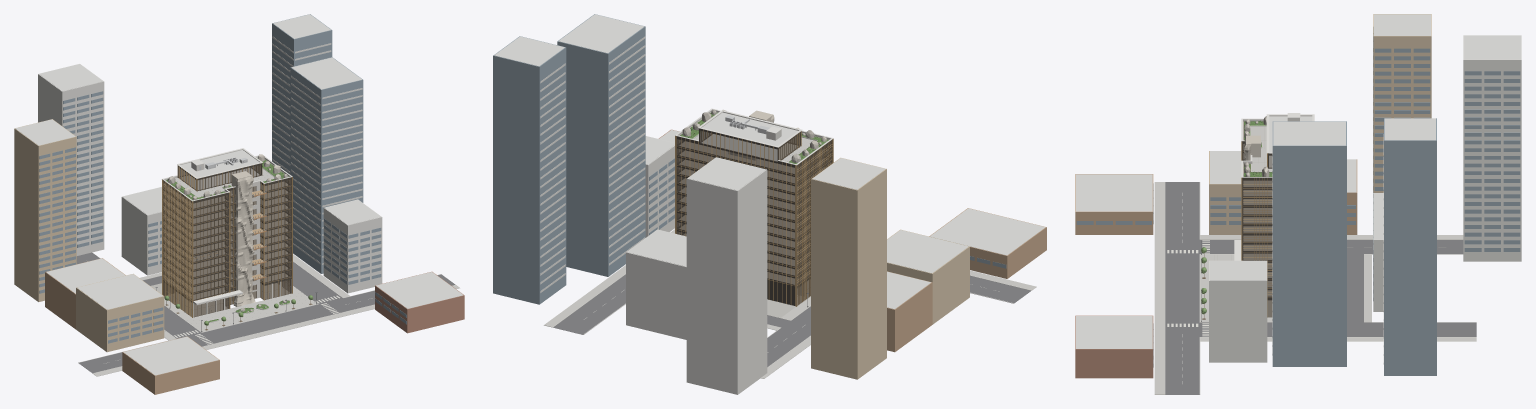
Rendered from clay-climbing-spine-clay-v001.glb.
The picture shows the model from 3 angles, left to right: view 1: azimuth 30°, elevation 25°; view 2: azimuth 150°, elevation 25°; view 3: azimuth 270°, elevation 25°; orthographic projection. The views are drawn at different scales.
Visible parts, largest first — view 1: CLAY_CTXGLASS, CLAY_WHITE, CLAY_MEMBRANE, CLAY_TAN, CLAY_GLASS, CLAY_BRONZE, CLAY_FLOOR, CLAY_ASPHALT, CLAY_SPANDREL, CLAY_PAVER, CLAY_BRICK, CLAY_FRAME (+7 smaller); view 2: CLAY_CTXGLASS, CLAY_WHITE, CLAY_TAN, CLAY_MEMBRANE, CLAY_GLASS, CLAY_BRONZE, CLAY_SPANDREL, CLAY_ASPHALT, CLAY_BRICK, CLAY_FLOOR, CLAY_PAVER, CLAY_FRAME (+2 smaller); view 3: CLAY_CTXGLASS, CLAY_WHITE, CLAY_MEMBRANE, CLAY_ASPHALT, CLAY_TAN, CLAY_PAVER, CLAY_BRICK2, CLAY_BRICK, CLAY_GLASS, CLAY_FLOOR, CLAY_BRONZE, CLAY_SPANDREL (+4 smaller).
Part boxes in pixels (<box>): CLAY_CTXGLASS: <box>39,14,406,343</box>; CLAY_WHITE: <box>38,36,382,293</box>; CLAY_MEMBRANE: <box>15,14,463,375</box>; CLAY_TAN: <box>14,119,164,352</box>; CLAY_GLASS: <box>163,165,291,316</box>; CLAY_BRONZE: <box>162,163,292,317</box>; CLAY_FLOOR: <box>164,181,289,316</box>; CLAY_ASPHALT: <box>76,252,455,373</box>; CLAY_SPANDREL: <box>163,163,291,317</box>; CLAY_PAVER: <box>93,169,459,376</box>; CLAY_BRICK: <box>45,258,219,394</box>; CLAY_FRAME: <box>164,166,291,316</box>; CLAY_CTXGLASS: <box>493,14,1006,304</box>; CLAY_WHITE: <box>540,36,767,394</box>; CLAY_TAN: <box>811,157,969,379</box>; CLAY_MEMBRANE: <box>494,14,1045,309</box>; CLAY_GLASS: <box>677,130,831,304</box>; CLAY_BRONZE: <box>675,129,833,306</box>; CLAY_SPANDREL: <box>676,128,831,305</box>; CLAY_ASPHALT: <box>553,274,1030,366</box>; CLAY_BRICK: <box>887,208,1046,352</box>; CLAY_FLOOR: <box>679,141,827,304</box>; CLAY_PAVER: <box>544,132,1036,378</box>; CLAY_FRAME: <box>677,135,831,303</box>; CLAY_CTXGLASS: <box>1076,27,1520,375</box>; CLAY_WHITE: <box>1209,35,1521,364</box>; CLAY_MEMBRANE: <box>1076,14,1520,348</box>; CLAY_ASPHALT: <box>1165,182,1476,394</box>; CLAY_TAN: <box>1209,14,1431,234</box>; CLAY_PAVER: <box>1154,122,1476,394</box>; CLAY_BRICK2: <box>1075,315,1153,378</box>; CLAY_BRICK: <box>1075,159,1357,234</box>; CLAY_GLASS: <box>1243,144,1272,316</box>; CLAY_FLOOR: <box>1243,144,1272,316</box>; CLAY_BRONZE: <box>1241,141,1272,317</box>; CLAY_SPANDREL: <box>1242,141,1272,300</box>.
Bounding box in the file's own units: 190 × 98.06 × 168.
